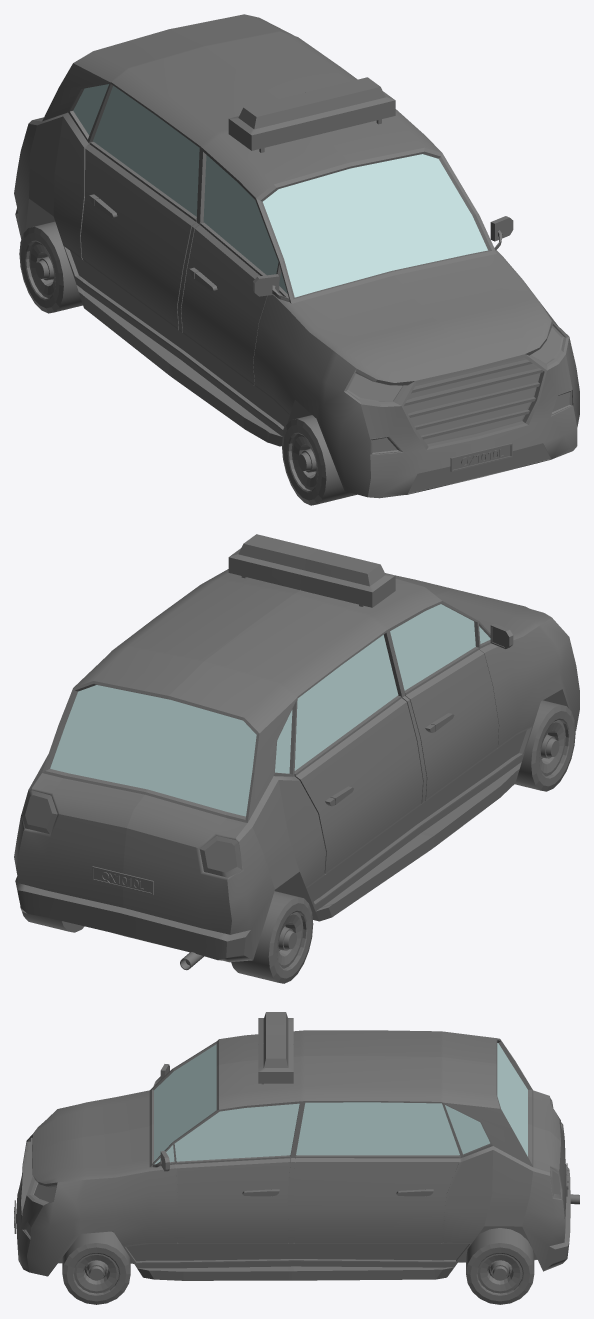
The model's file is policeCar.fbx.
3 renders of one model, top to bottom at view 1: azimuth 30°, elevation 25°; view 2: azimuth 150°, elevation 25°; view 3: azimuth 270°, elevation 25°, orthographic. The views are drawn at different scales.
Visible parts, largest first — view 1: policeCar, windows, siron, bcakWheels, frontWheels, wingMirror, carPlate_front; view 2: policeCar, windows, siron, bcakWheels, frontWheels, carPlate_back; view 3: policeCar, windows, bcakWheels, frontWheels, siron, doorHandle.
Boxes of the visible parts, x1,y1,x2,y2 form: policeCar: [14, 14, 579, 498]; windows: [73, 84, 487, 297]; siron: [228, 77, 395, 152]; bcakWheels: [19, 221, 82, 313]; frontWheels: [282, 415, 356, 505]; wingMirror: [253, 216, 513, 301]; carPlate_front: [450, 443, 512, 471]; policeCar: [14, 569, 579, 962]; windows: [50, 604, 490, 816]; siron: [228, 534, 395, 607]; bcakWheels: [20, 891, 313, 983]; frontWheels: [515, 700, 575, 791]; carPlate_back: [92, 866, 153, 894]; policeCar: [16, 1030, 570, 1280]; windows: [154, 1043, 527, 1164]; bcakWheels: [466, 1228, 534, 1304]; frontWheels: [62, 1231, 130, 1304]; siron: [258, 1012, 293, 1084]; doorHandle: [242, 1189, 433, 1196].
Bounding box in the file's own units: 1.83 × 1.92 × 4.43.
